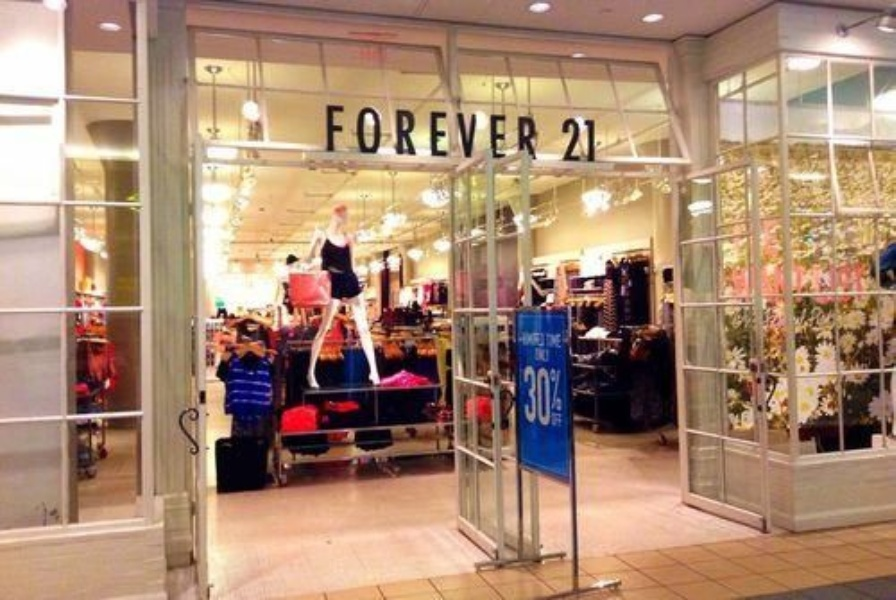text: (529, 366, 544, 430), (545, 366, 560, 430), (337, 104, 352, 160), (353, 104, 368, 160), (369, 104, 384, 160), (385, 104, 400, 160), (401, 104, 416, 160), (417, 104, 432, 160), (433, 104, 448, 160), (449, 104, 464, 160), (465, 104, 480, 160), (481, 104, 496, 160), (497, 104, 512, 160), (513, 104, 528, 160), (561, 117, 576, 162), (577, 117, 592, 162), (325, 104, 336, 160), (529, 104, 538, 160), (522, 366, 528, 430), (529, 330, 544, 350), (545, 330, 560, 350), (533, 344, 544, 364), (593, 117, 597, 162), (520, 330, 528, 350), (545, 344, 552, 364), (561, 366, 563, 430), (561, 330, 563, 350)
